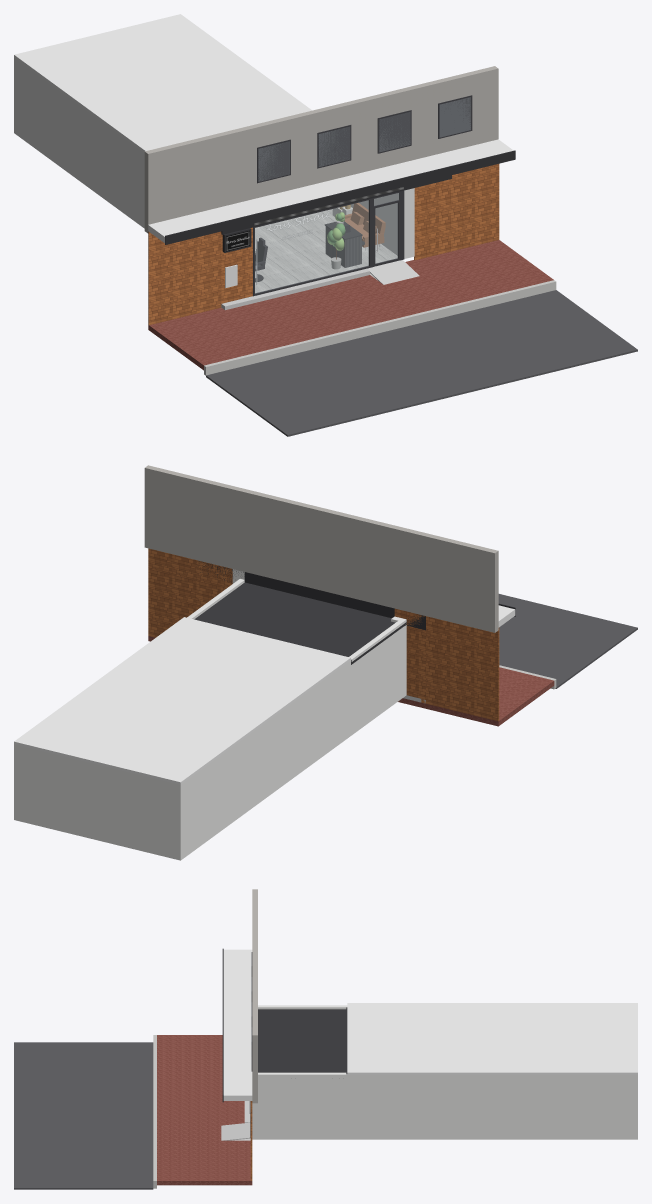
The model's file is rou_studio.glb.
3 views of the same model, one above another, from view 1: azimuth 30°, elevation 25°; view 2: azimuth 150°, elevation 25°; view 3: azimuth 270°, elevation 25° (orthographic). The views are drawn at different scales.
Visible parts, largest first — view 1: Calle_Acera, Edificio_Voladizo, Techo_Blanco, Paredes, Escaparate, Fachada, Suelo, Puerta_Entrada, Recepcion, Rotulo_Fascia, Zona_Espera, Rampa_Acceso; view 2: Edificio_Voladizo, Paredes, Techo_Blanco, Calle_Acera, Techo_Negro, Fachada, Rotulo_Fascia; view 3: Calle_Acera, Paredes, Techo_Blanco, Edificio_Voladizo, Techo_Negro, Rampa_Acceso.
Boxes of the visible parts, <box> form: Calle_Acera: <box>148,240,637,436</box>; Edificio_Voladizo: <box>144,66,515,325</box>; Techo_Blanco: <box>14,14,311,152</box>; Paredes: <box>14,57,398,255</box>; Escaparate: <box>253,191,399,296</box>; Fachada: <box>221,179,450,303</box>; Suelo: <box>255,209,397,292</box>; Puerta_Entrada: <box>372,191,402,266</box>; Recepcion: <box>325,212,362,267</box>; Rotulo_Fascia: <box>221,175,451,234</box>; Zona_Espera: <box>337,203,385,250</box>; Rampa_Acceso: <box>367,260,419,284</box>; Edificio_Voladizo: <box>144,465,515,721</box>; Paredes: <box>14,579,406,860</box>; Techo_Blanco: <box>14,617,350,784</box>; Calle_Acera: <box>148,594,637,726</box>; Techo_Negro: <box>194,582,406,664</box>; Fachada: <box>196,560,425,703</box>; Rotulo_Fascia: <box>199,561,425,630</box>; Calle_Acera: <box>14,1035,252,1189</box>; Paredes: <box>252,1005,637,1139</box>; Techo_Blanco: <box>347,1003,637,1074</box>; Edificio_Voladizo: <box>222,889,257,1180</box>; Techo_Negro: <box>258,1007,347,1074</box>; Rampa_Acceso: <box>221,1122,250,1140</box>.
Bounding box in the file's own units: 14.5 × 7.15 × 26.2.
46 materials, 11 textured.
